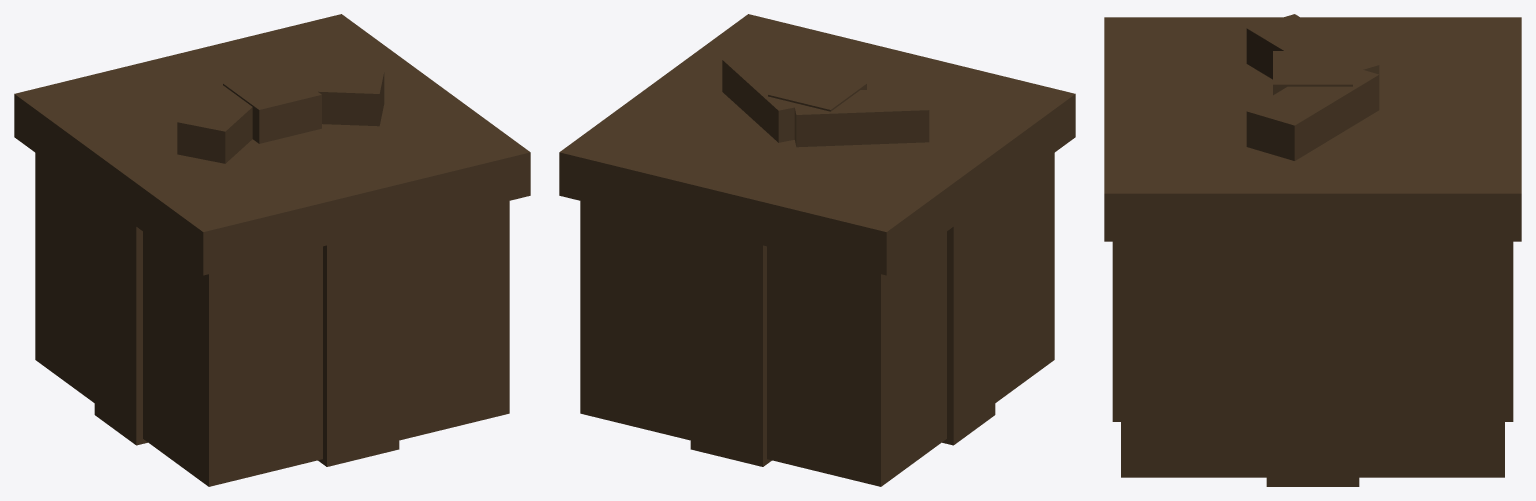
File: gift.glb
3 views of the same model, side by side, from view 1: azimuth 30°, elevation 25°; view 2: azimuth 150°, elevation 25°; view 3: azimuth 270°, elevation 25° (orthographic). The views are drawn at different scales.
Visible parts, largest first — view 1: GiftBox, LidLeft, LidRight, RibbonY, RibbonX, BowKnot, BowL, BowR; view 2: GiftBox, LidLeft, LidRight, RibbonY, RibbonX, BowL, BowR, BowKnot; view 3: GiftBox, LidRight, LidLeft, RibbonX, BowR, BowL, RibbonY, BowKnot.
Part boxes in pixels (x1,y1,x2,y2): GiftBox: (35,153,509,486); LidLeft: (14,51,378,275); LidRight: (167,14,530,237); RibbonY: (318,228,399,466); RibbonX: (94,196,147,445); BowKnot: (223,68,321,143); BowL: (177,71,255,163); BowR: (250,66,384,126); GiftBox: (580,153,1054,486); LidLeft: (711,51,1075,275); LidRight: (559,14,912,237); RibbonY: (690,228,771,466); RibbonX: (942,196,995,445); BowL: (794,87,929,147); BowR: (722,50,796,142); BowKnot: (768,68,866,111); GiftBox: (1121,241,1504,477); LidRight: (1104,99,1521,241); LidLeft: (1104,17,1521,111); RibbonX: (1266,241,1359,486); BowR: (1246,67,1379,160); BowL: (1246,14,1379,79); RibbonY: (1112,241,1513,421); BowKnot: (1273,51,1352,95).
Bounding box in the file's own units: 0.4946 × 0.4371 × 0.4946.
